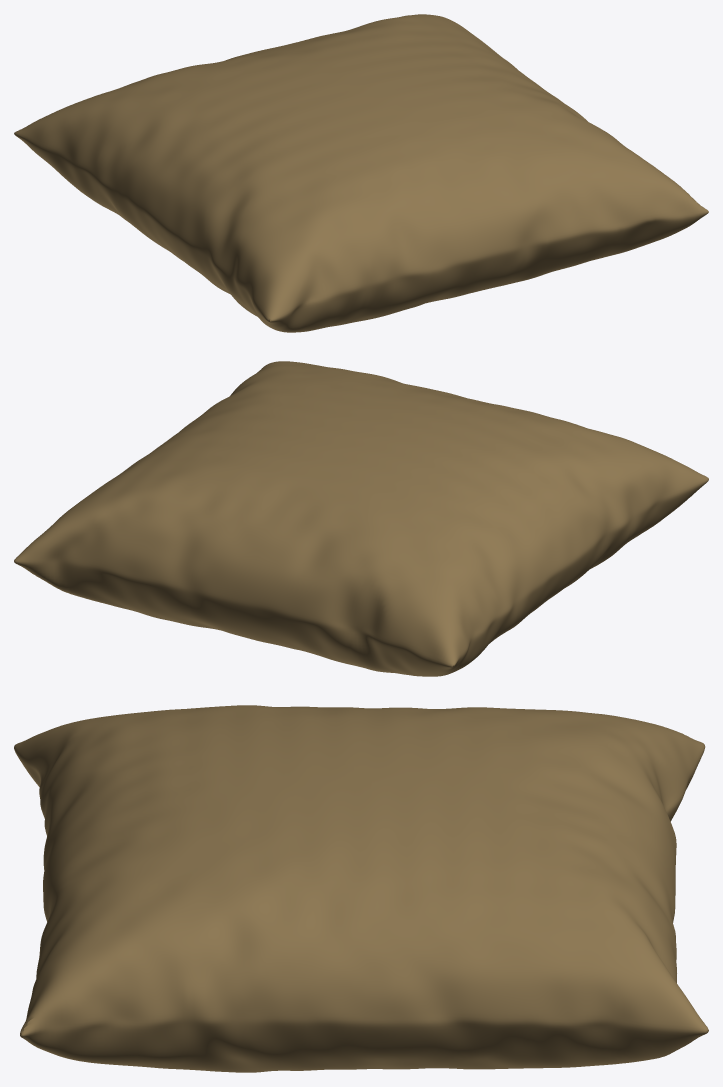
Rendered from cushion.fbx.
The picture shows the model from 3 angles, top to bottom: view 1: azimuth 30°, elevation 25°; view 2: azimuth 150°, elevation 25°; view 3: azimuth 270°, elevation 25°; orthographic projection. The views are drawn at different scales.
Visible parts, largest first — view 1: 立方体; view 2: 立方体; view 3: 立方体.
Part boxes in pixels (x1,y1,x2,y2): 立方体: (14, 14, 708, 332); 立方体: (14, 361, 708, 676); 立方体: (14, 705, 708, 1072).
Size of the model in its own units: 190 by 68.05 by 192.
